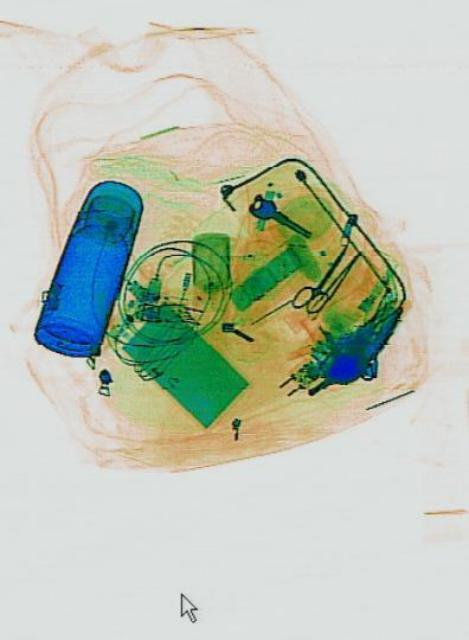Scissors: (288, 235, 354, 323)
